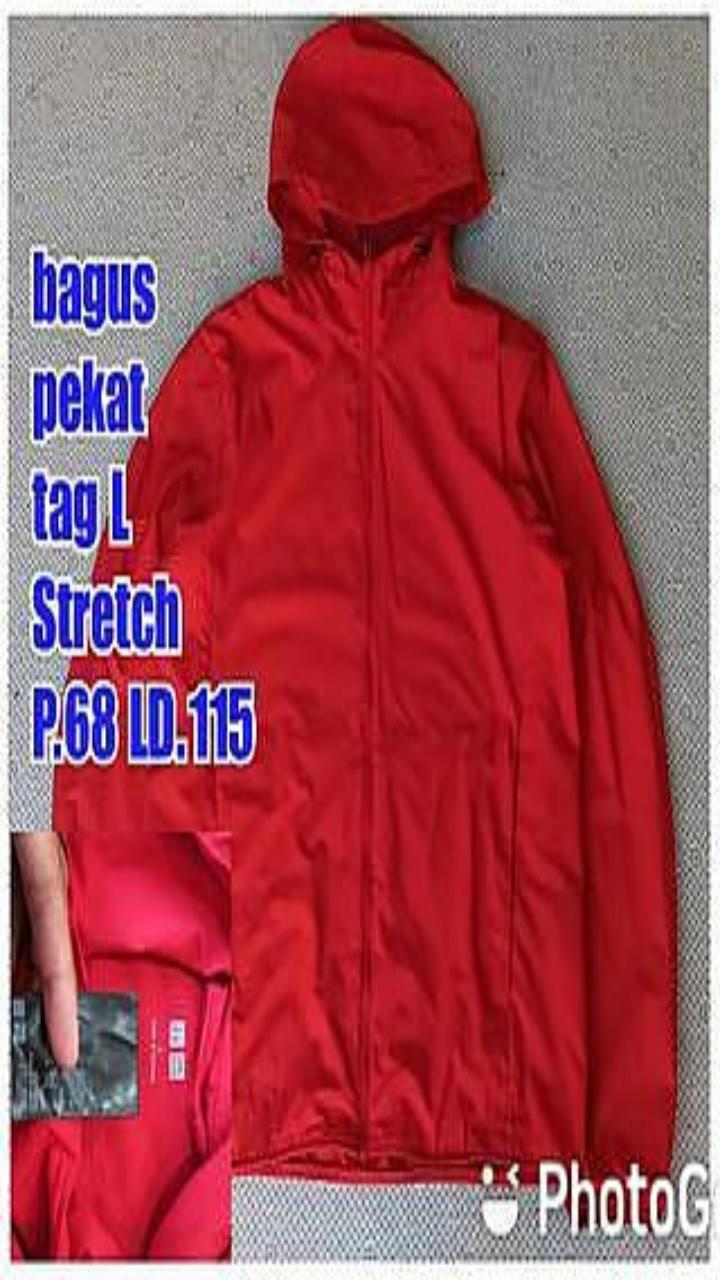Sports_Jacket: (55, 20, 675, 1177), (11, 831, 231, 1260)
